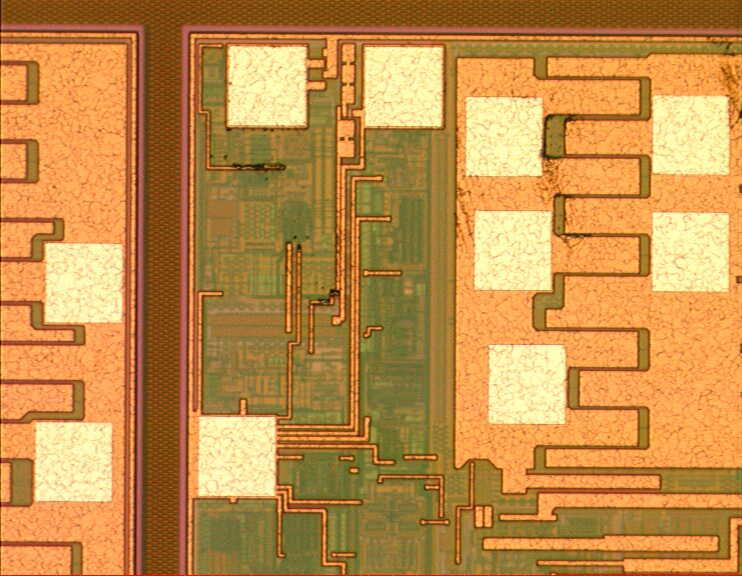SCRATCH: (202, 27, 742, 310)
